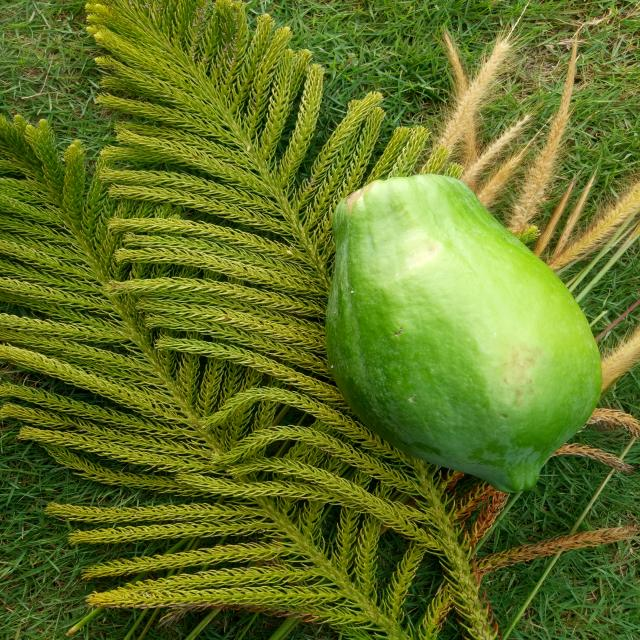Pepaya unrippen: (313, 170, 617, 498)
